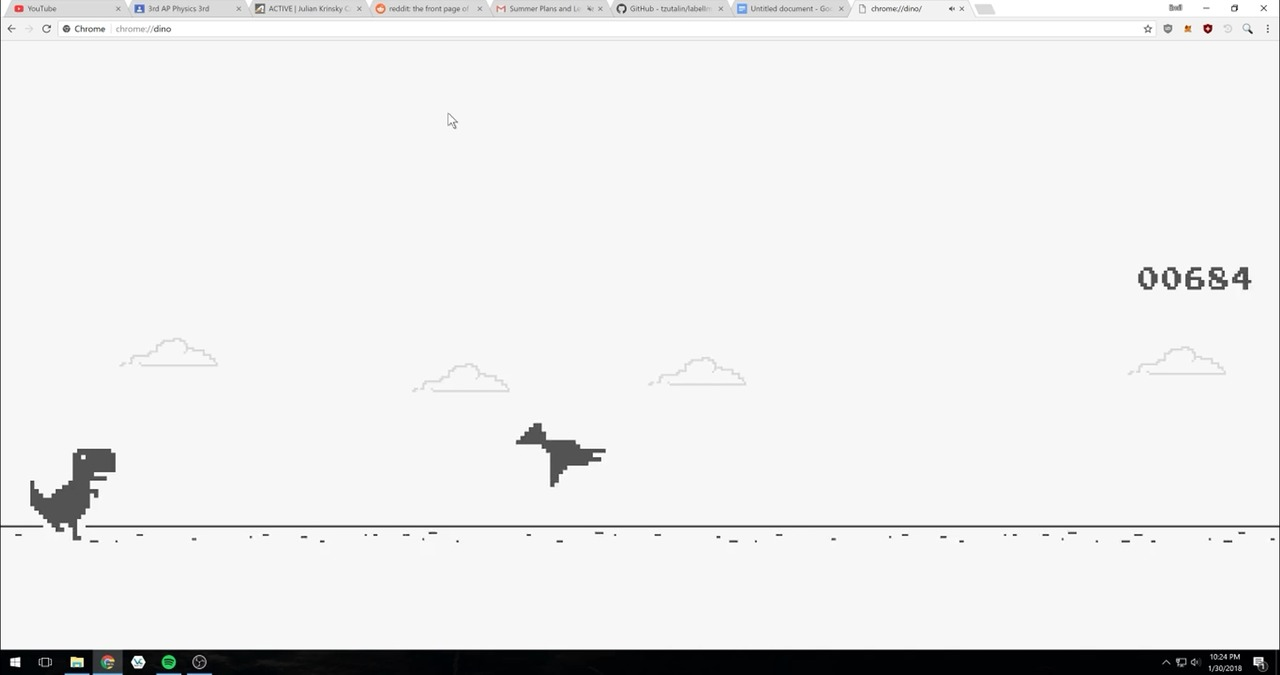bird: (514, 418, 609, 491)
dinosaur: (26, 445, 120, 542)
